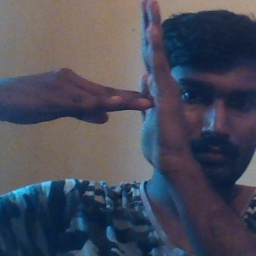Z: (69, 2, 190, 169)
